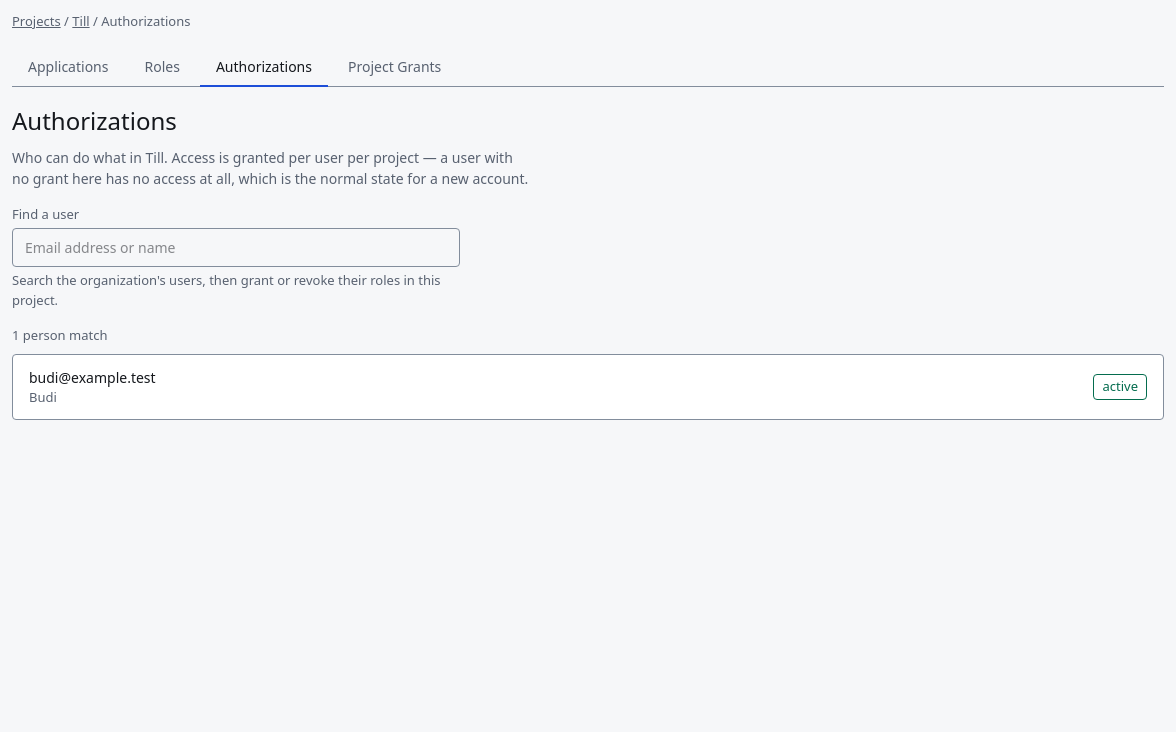
Scenario: a user's access to the project › names the roles rather than counting them
The image size is (1176, 732).
Type "budi" into the search field labelled "Find a user" at (236, 248), box [12,228,460,267]
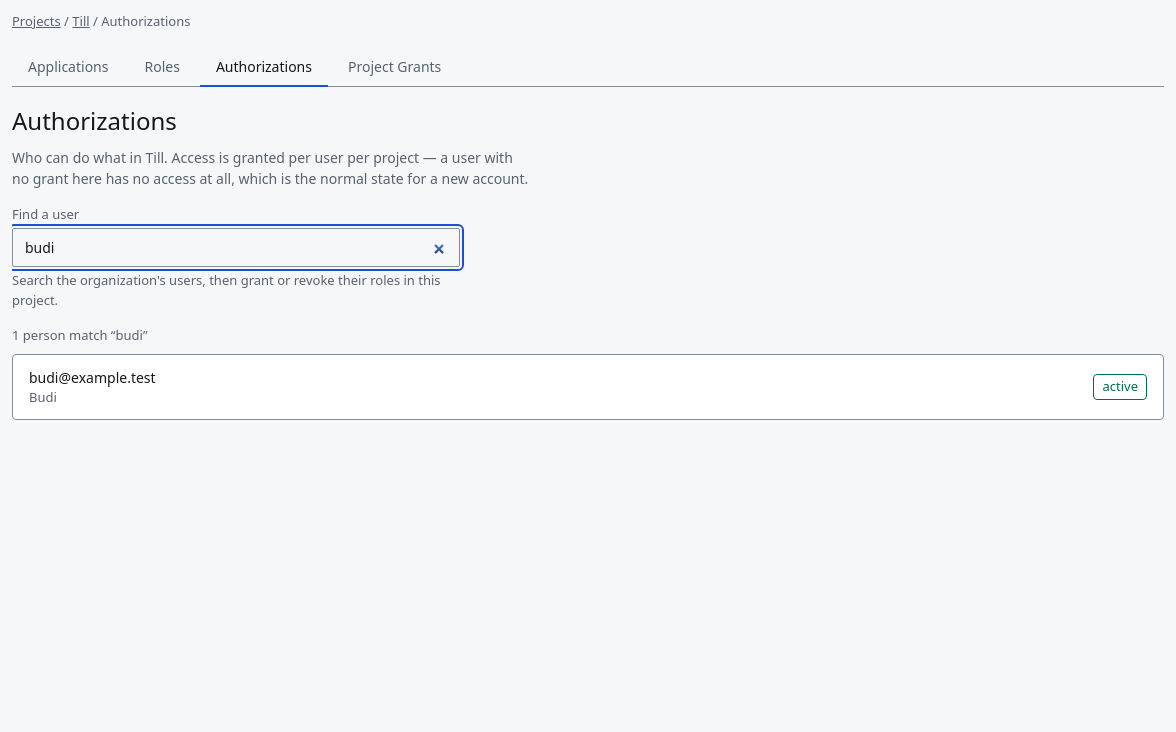
Click the button "budi@example.test Budi active" at (92, 377), box [13,354,1163,419]
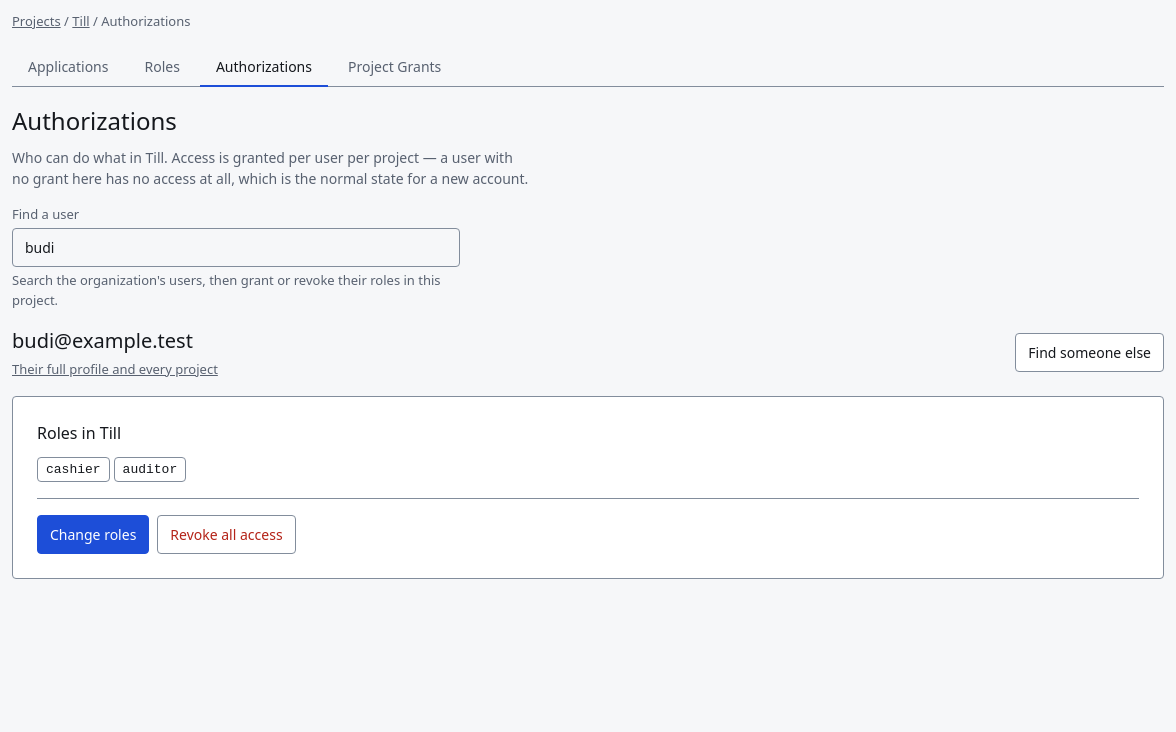
Result: the text "cashier" is shown at [37,456,110,482]
Result: the text "auditor" is shown at [114,456,186,482]
